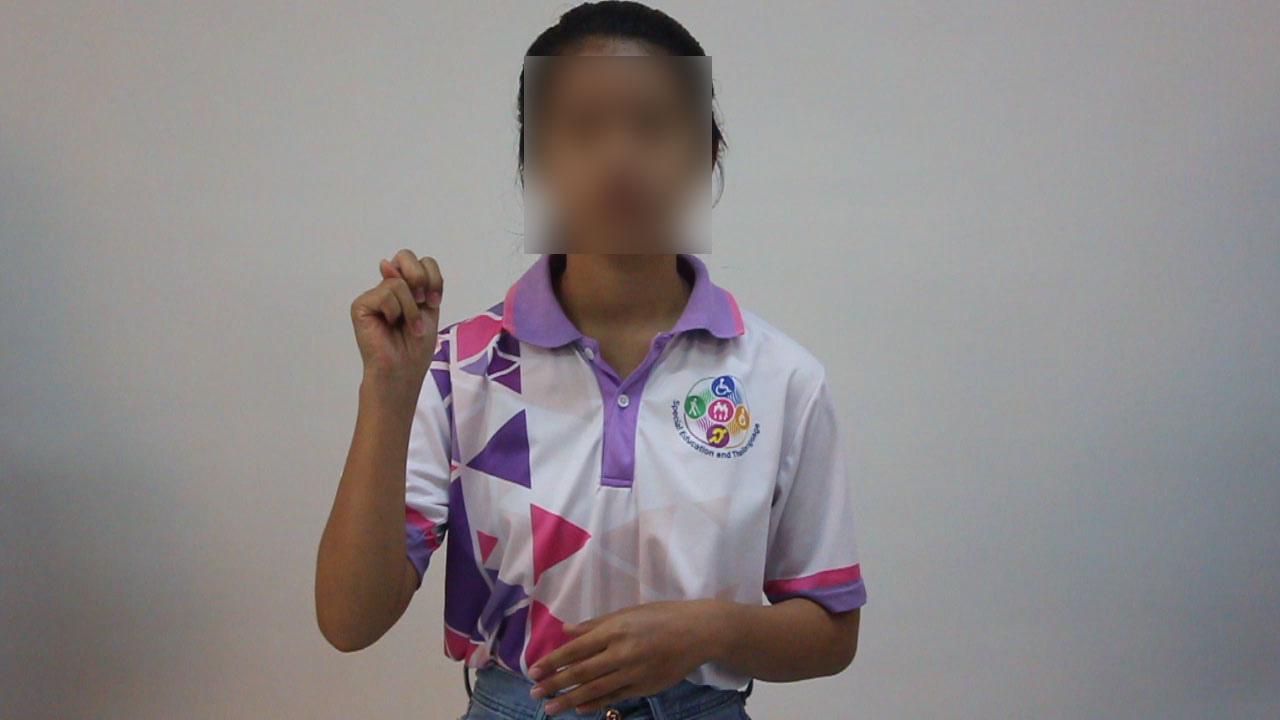nor: (340, 242, 455, 394)
